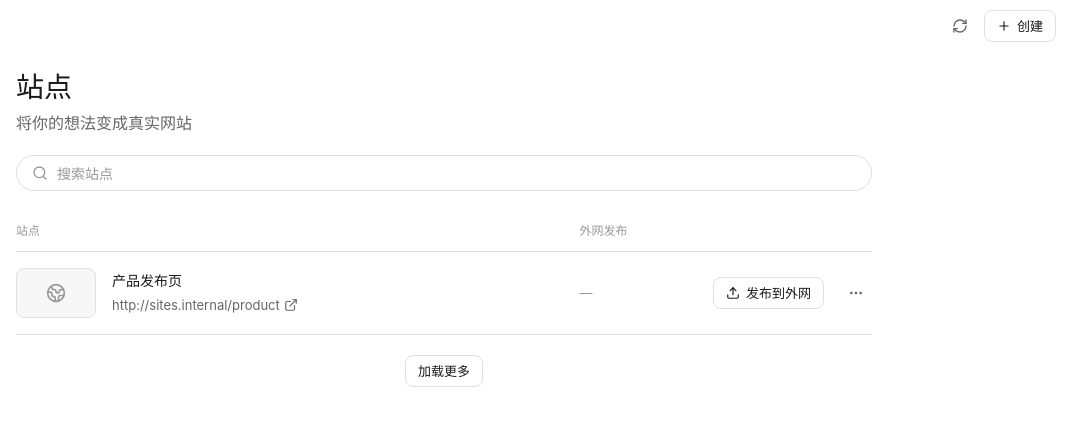
Scenario: SitesWorkspace › loads the next page without dropping existing sites
expect the heading "产品发布页" is shown: met, box left=112, top=272, right=182, bottom=289
Click the button with test id "sites-load-more-button" at (444, 371), box left=405, top=355, right=483, bottom=387
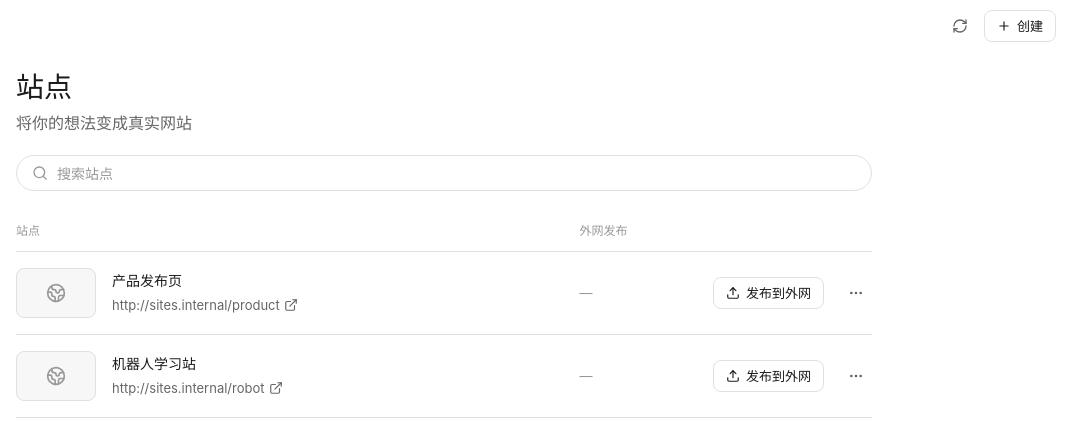
expect the heading "产品发布页" is shown: met, box left=112, top=272, right=182, bottom=289
expect the heading "机器人学习站" is shown: met, box left=112, top=355, right=196, bottom=372
